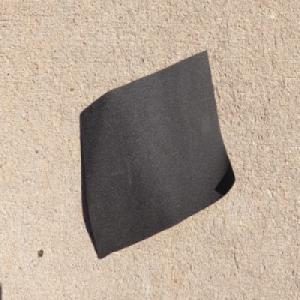PaintChip: (78, 46, 235, 260)
